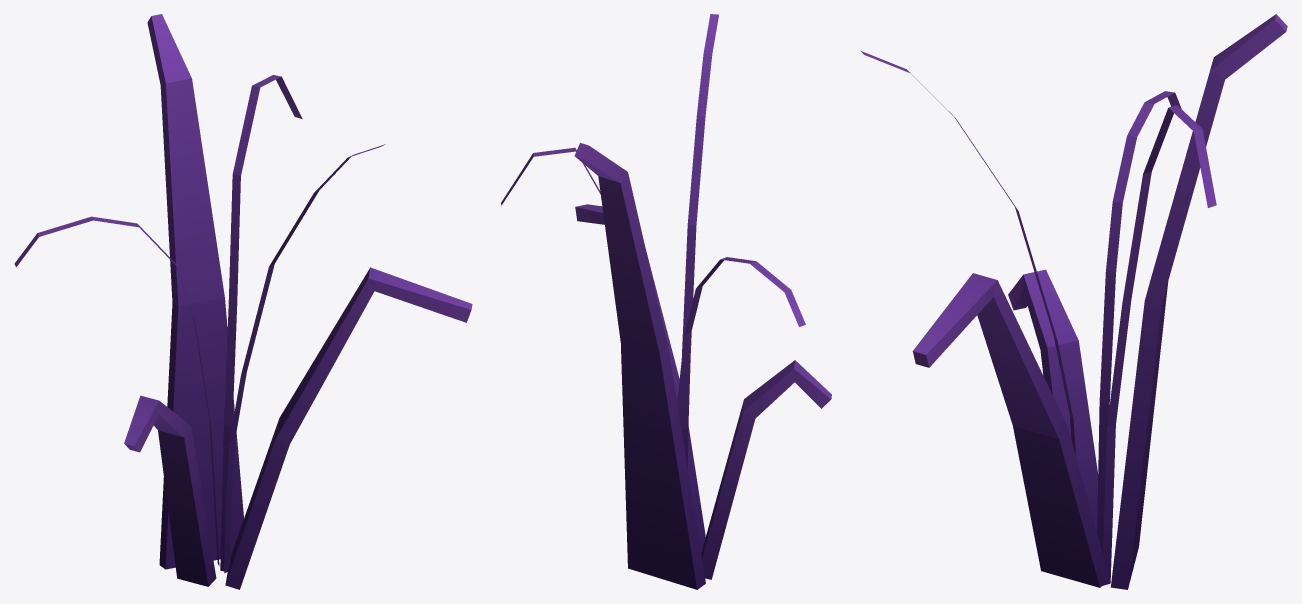
Rendered from MagicGrass1.fbx.
The picture shows the model from 3 angles, left to right: view 1: azimuth 30°, elevation 25°; view 2: azimuth 150°, elevation 25°; view 3: azimuth 270°, elevation 25°; orthographic projection. The views are drawn at different scales.
Parts seen in each view (by area): view 1: MagicGrass1; view 2: MagicGrass1; view 3: MagicGrass1.
Boxes of the visible parts, x1,y1,x2,y2 form: MagicGrass1: (14,14,472,589); MagicGrass1: (501,14,831,589); MagicGrass1: (861,14,1287,589).
Bounding box in the file's own units: 132 × 182 × 123.
